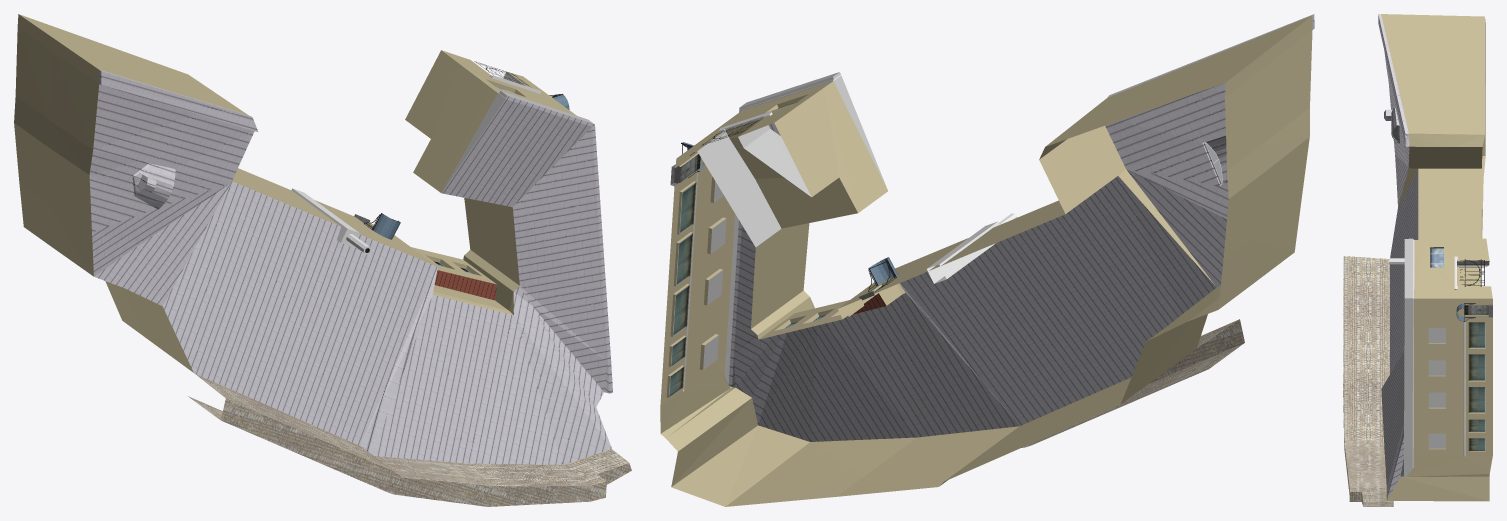
File: Ryytli_28.obj
3 renders of one model, left to right at view 1: azimuth 30°, elevation 25°; view 2: azimuth 150°, elevation 25°; view 3: azimuth 270°, elevation 25°, orthographic. The views are drawn at different scales.
Parts seen in each view (by area): view 1: Ryytli_28; view 2: Ryytli_28; view 3: Ryytli_28.
Boxes of the visible parts, x1,y1,x2,y2 form: Ryytli_28: [14, 14, 631, 506]; Ryytli_28: [660, 14, 1314, 506]; Ryytli_28: [1343, 14, 1492, 506].
Bounding box in the file's own units: 38.73 × 36.49 × 14.66.
